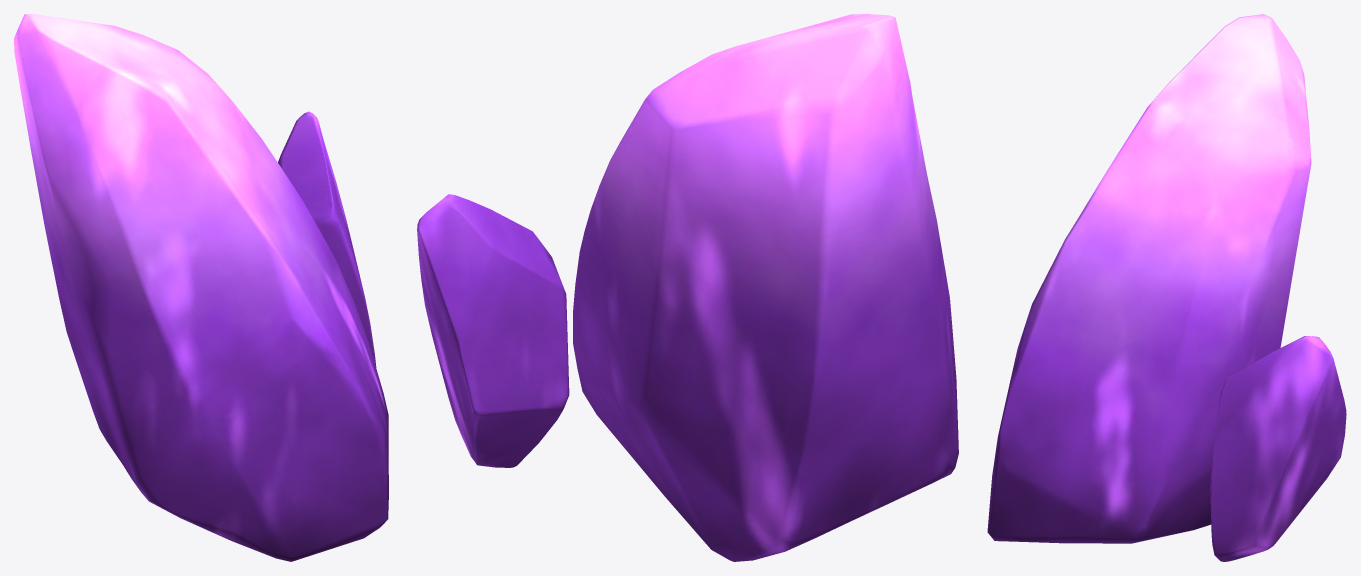
Rendered from odk_small_b.glb.
3 renders of one model, left to right at view 1: azimuth 30°, elevation 25°; view 2: azimuth 150°, elevation 25°; view 3: azimuth 270°, elevation 25°, orthographic. The views are drawn at different scales.
Parts seen in each view (by area): view 1: odk_small_b; view 2: odk_small_b; view 3: odk_small_b.
Part boxes in pixels (<box>): odk_small_b: <box>14,14,388,561</box>; odk_small_b: <box>417,14,958,561</box>; odk_small_b: <box>987,14,1346,561</box>.
Bounding box in the file's own units: 3.7 × 4.96 × 3.56.
Materials: 1 (1 with a texture image).
